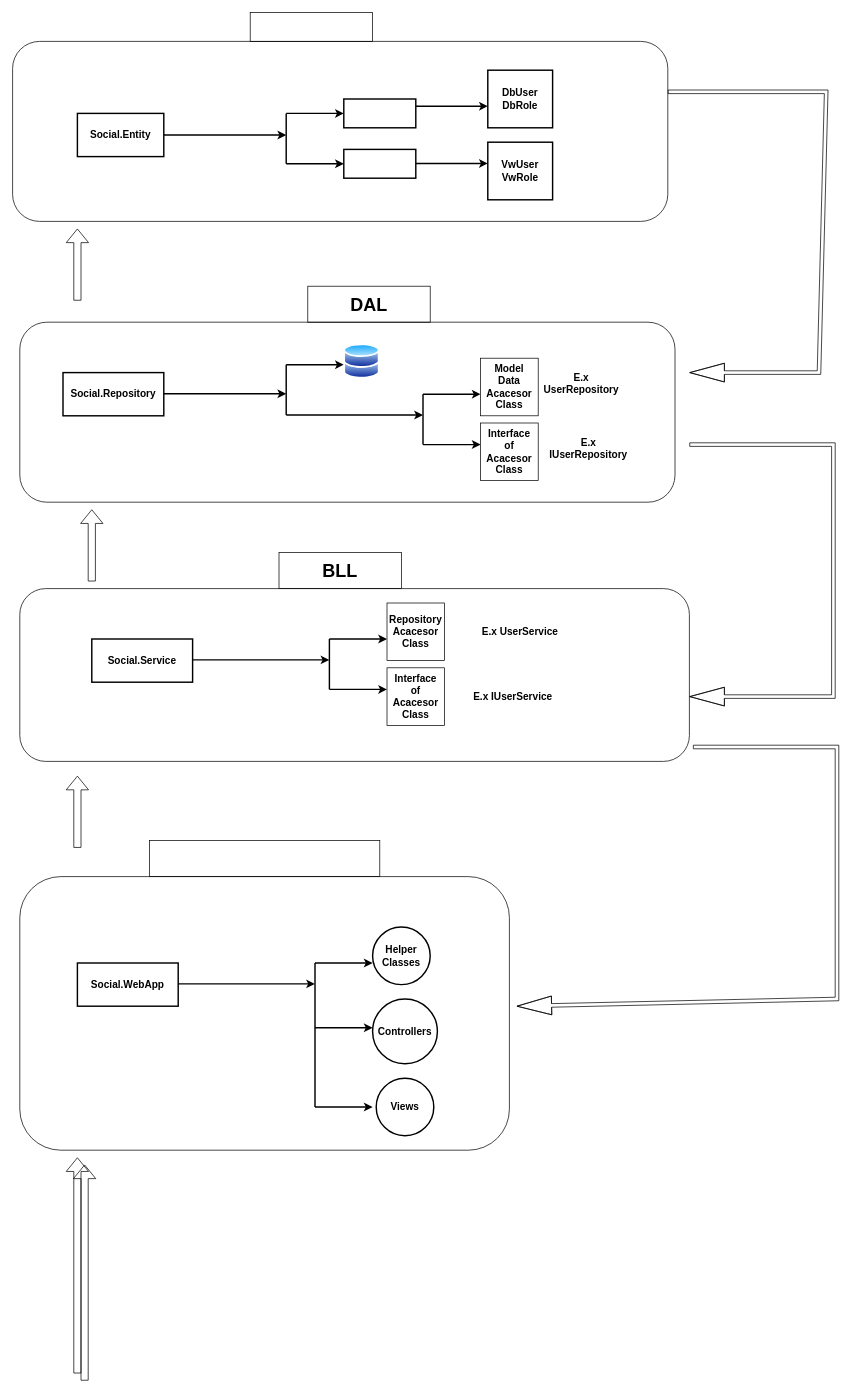
This 852x1393 diagram has some shape labels left out. The shapes that lost their labels are listed below. From the top down, each one's centre as x and y in pixels, then its label:
(311,26): Entity
(379,113): DB Models
(379,163): View Models
(361,361): DbContext
(264,858): Presentation/Web
